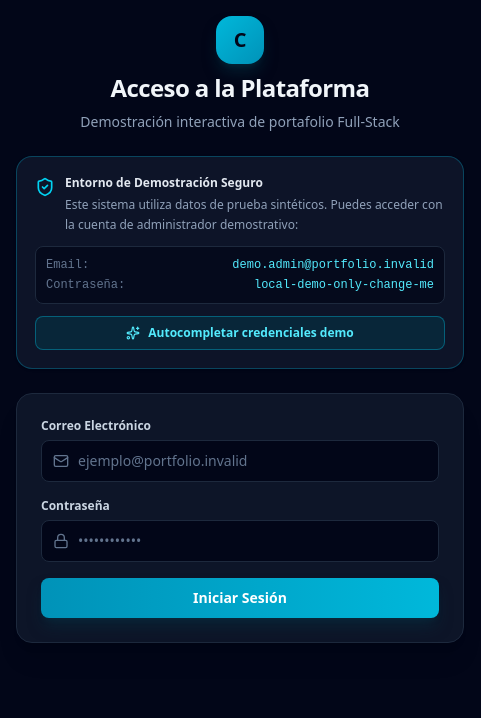
Test: Pantalla de Login y Accesibilidad › muestra alerta accesible cuando falla la autenticación
Click the button "Autocompletar credenciales demo" at (240, 333), box [35, 316, 445, 350]
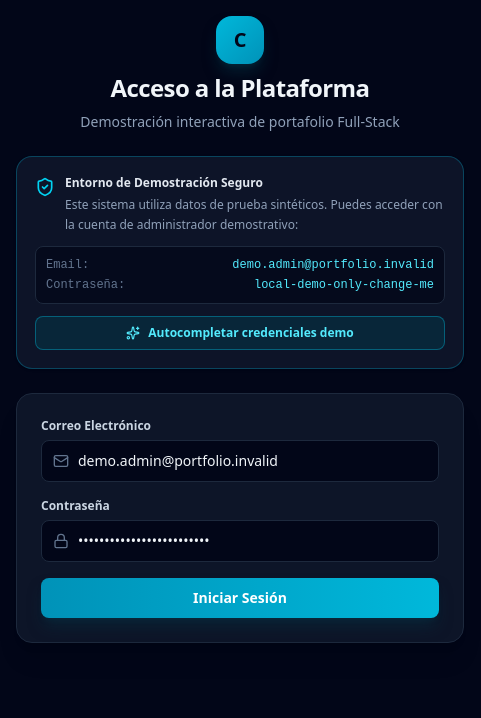
Click the button "Iniciar Sesión" at (240, 598), box [41, 578, 439, 618]
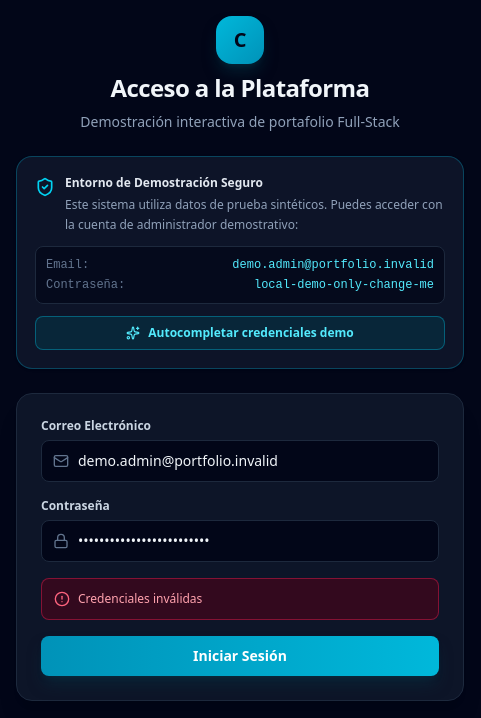
Check: the message "Credenciales inválidas" is shown, box [41, 578, 439, 620]
Check: the message reads "Credenciales inválidas", box [78, 590, 202, 607]
